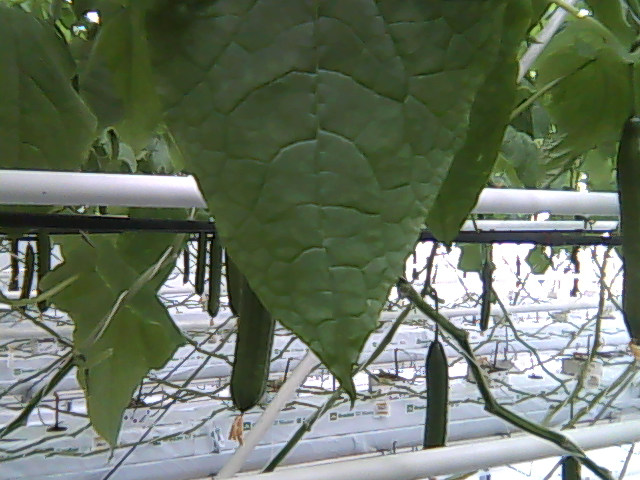concombre: (226, 269, 276, 445), (616, 108, 640, 346)
